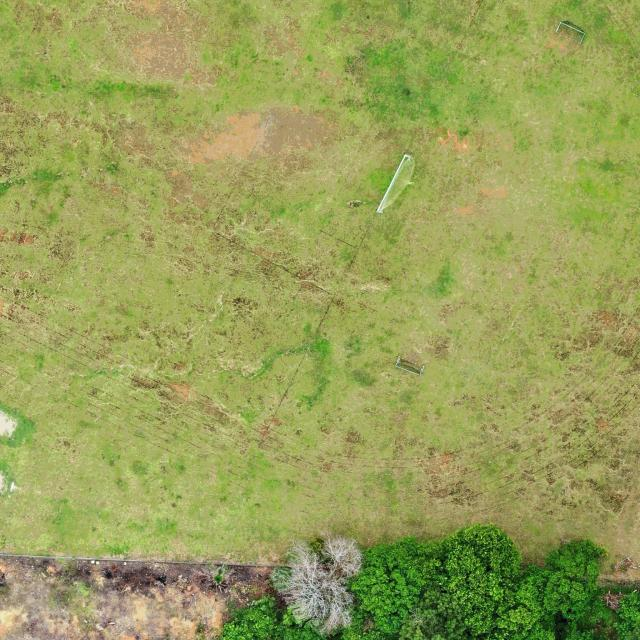Tree: (438, 524, 542, 634), (267, 532, 363, 636), (348, 534, 441, 636), (540, 538, 607, 625), (397, 589, 466, 640)
